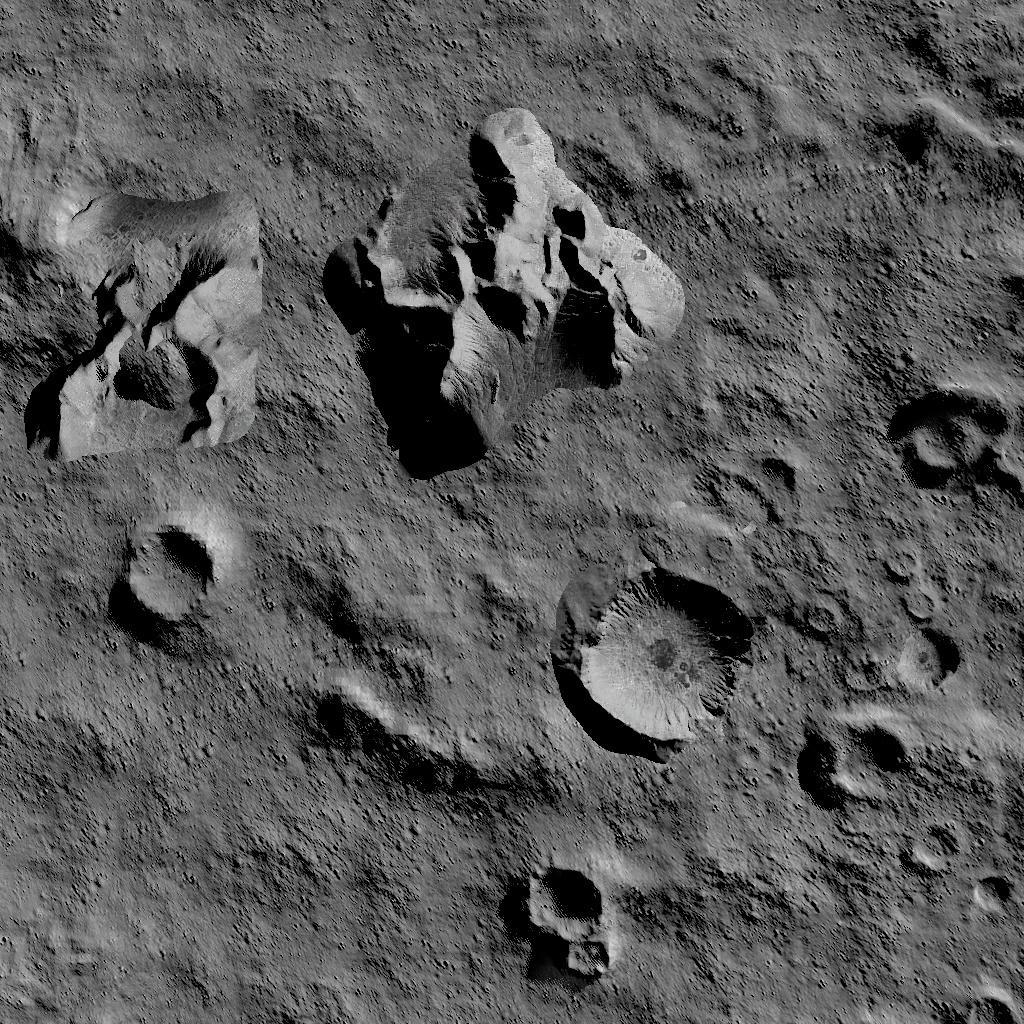Boulders: (318, 104, 688, 474), (1, 186, 285, 468)
Crater: (564, 562, 754, 748), (874, 377, 1024, 505), (118, 522, 228, 630), (788, 711, 912, 801), (522, 859, 616, 977), (878, 623, 958, 692), (931, 969, 1024, 1024), (892, 813, 950, 860), (962, 860, 1005, 904), (793, 598, 836, 636)
Plan surface: (3, 640, 338, 1024), (311, 0, 1024, 95), (712, 116, 866, 464), (627, 810, 872, 1024), (0, 0, 296, 176), (351, 787, 506, 1024)
